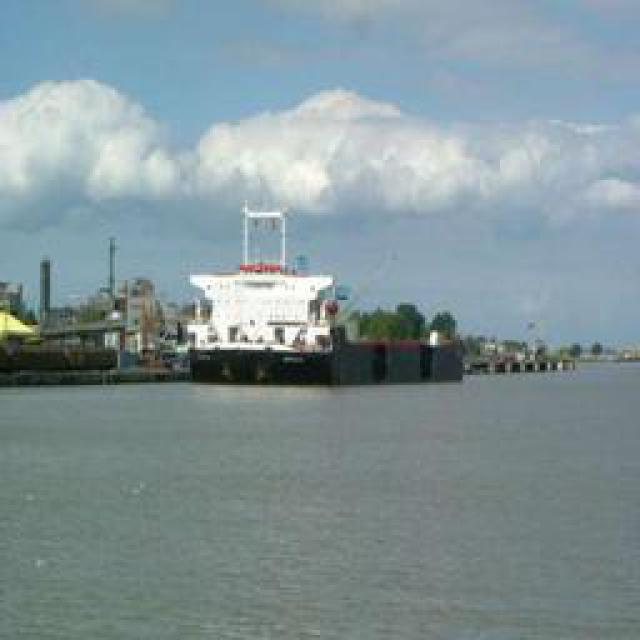Ship: (180, 202, 345, 380)
